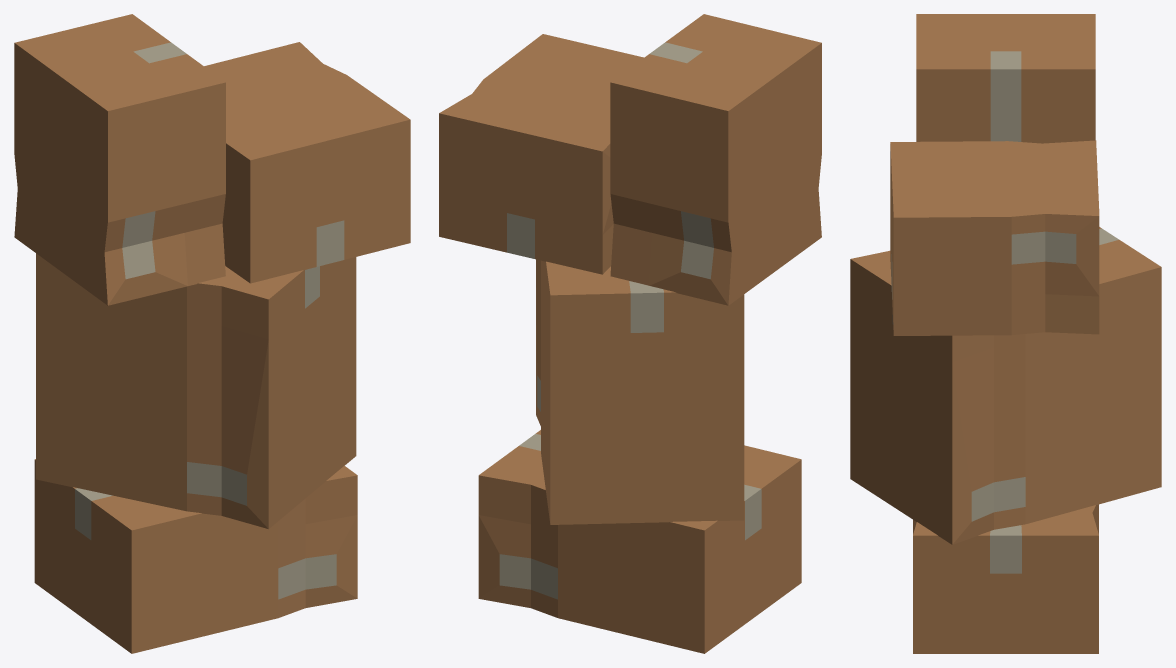
The model's file is quaternius-toon-shooter-game-cardboardboxes-3.glb.
3 renders of one model, left to right at view 1: azimuth 30°, elevation 25°; view 2: azimuth 150°, elevation 25°; view 3: azimuth 270°, elevation 25°, orthographic. The views are drawn at different scales.
Parts seen in each view (by area): view 1: CardboardBoxes_3; view 2: CardboardBoxes_3; view 3: CardboardBoxes_3.
Part boxes in pixels (x1,y1,x2,y2): CardboardBoxes_3: (14,14,410,653); CardboardBoxes_3: (439,14,821,653); CardboardBoxes_3: (850,14,1161,653).
Bounding box in the file's own units: 1.26 × 2.25 × 1.21.
